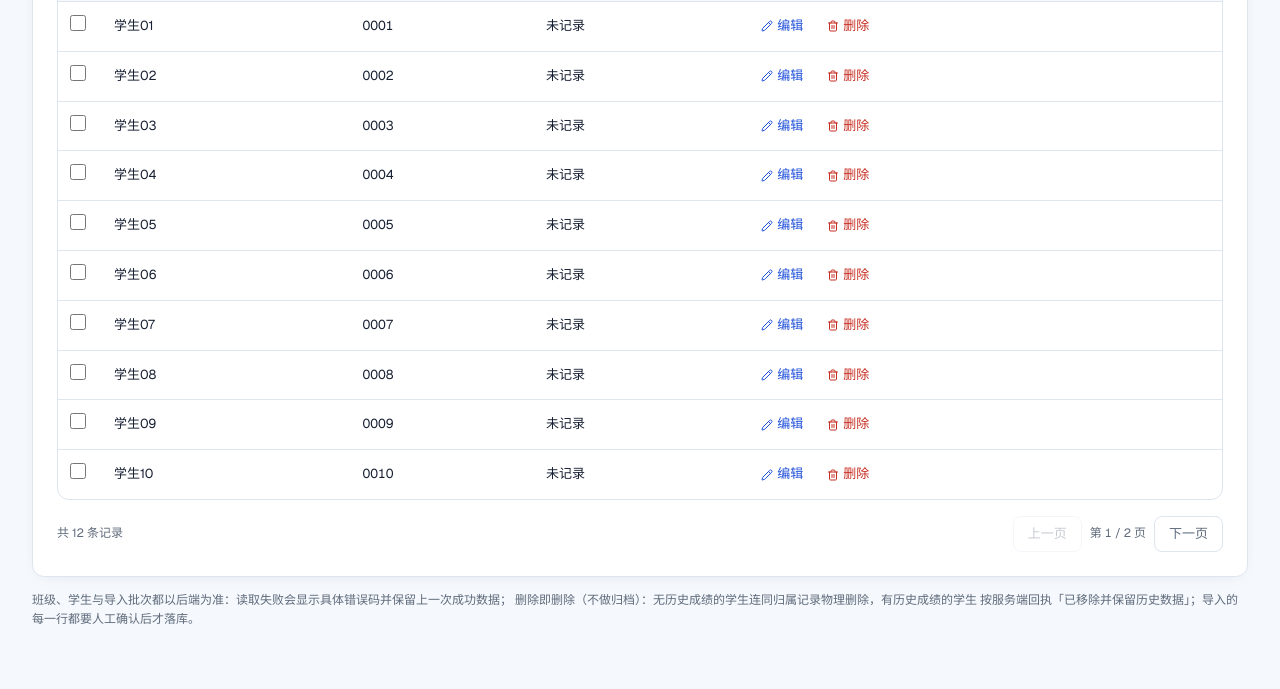
it: 班级管理页：学生列表版面（参考图） › 搜索按姓名过滤并回到第 1 页；无命中给出说明
(page scrolled)
Expected: the text "学生01" is shown, [114, 17, 154, 34]
Click the button "下一页": (1188,534) [1154, 516, 1223, 552]
(page scrolled)
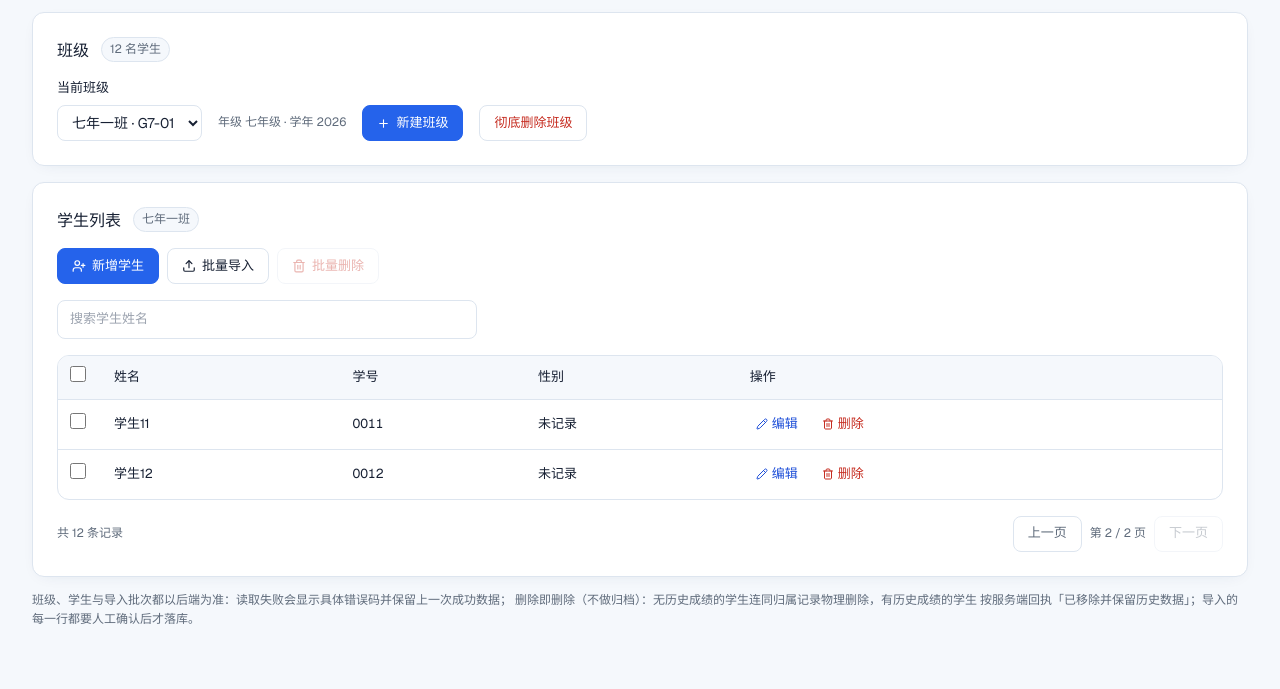
In the search field with placeholder "搜索学生姓名": (267,320) [57, 300, 477, 339], type "学生03"
(page scrolled)
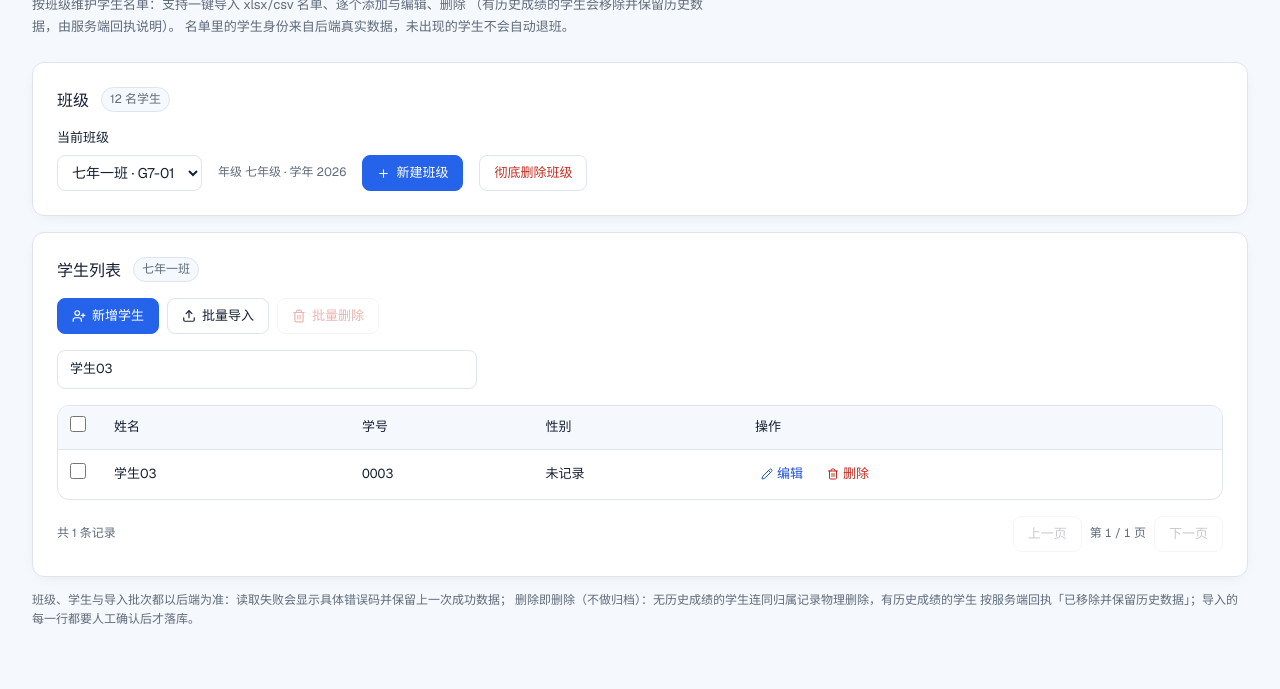
Expected: the text with test id "assessments-students-total" reads "共 1 条记录", [57, 524, 116, 543]
Expected: the text with test id "assessments-students-page" reads "第 1 / 1 页", [1090, 524, 1146, 544]
Expected: the text "学生03" is shown, [114, 465, 157, 482]
Replace the text in the search field with placeholder "搜索学生姓名" with "不存在的人": (267,370) [57, 350, 477, 389]
(page scrolled)
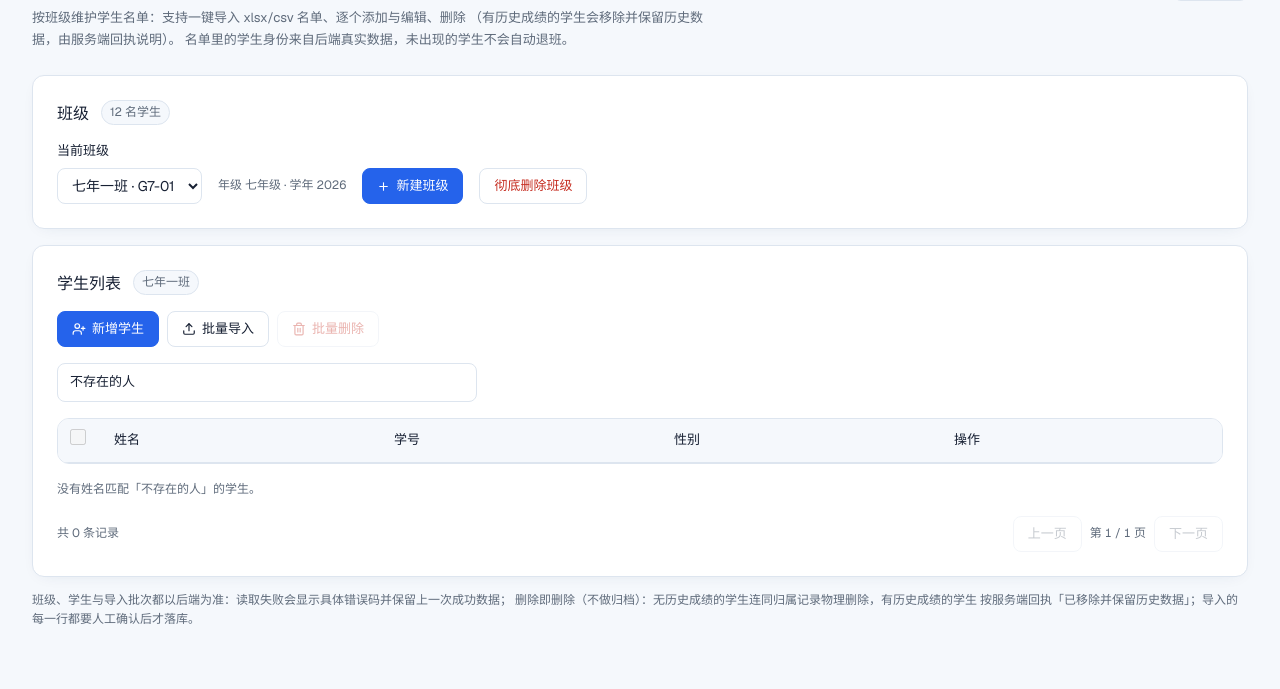
Expected: the text with test id "assessments-students-no-match" shows "没有姓名匹配", [57, 481, 141, 497]
